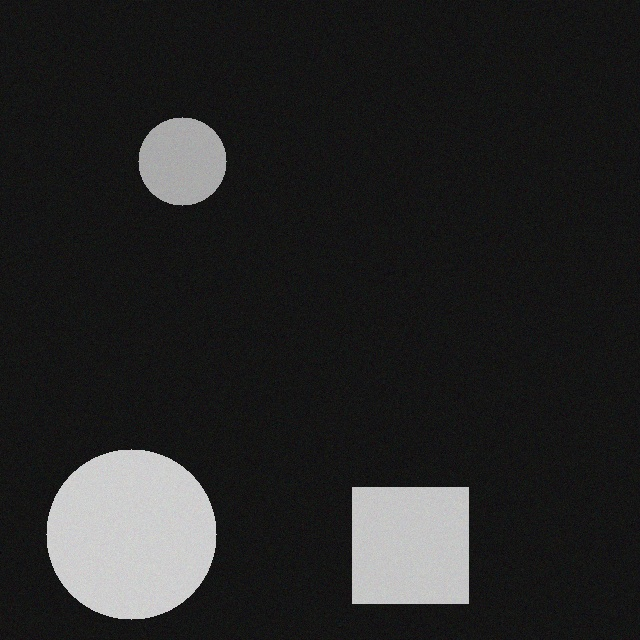circle: (59, 458, 229, 628), (151, 126, 239, 214)
square: (365, 496, 481, 612)
